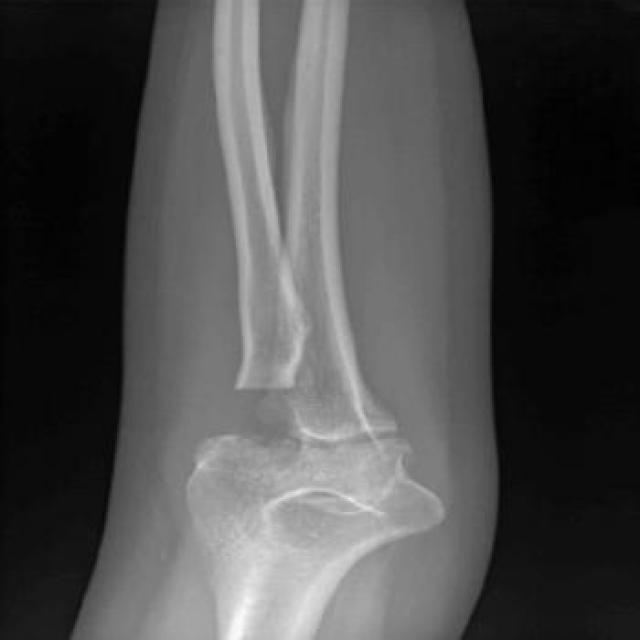Fracture: (192, 368, 325, 473)
